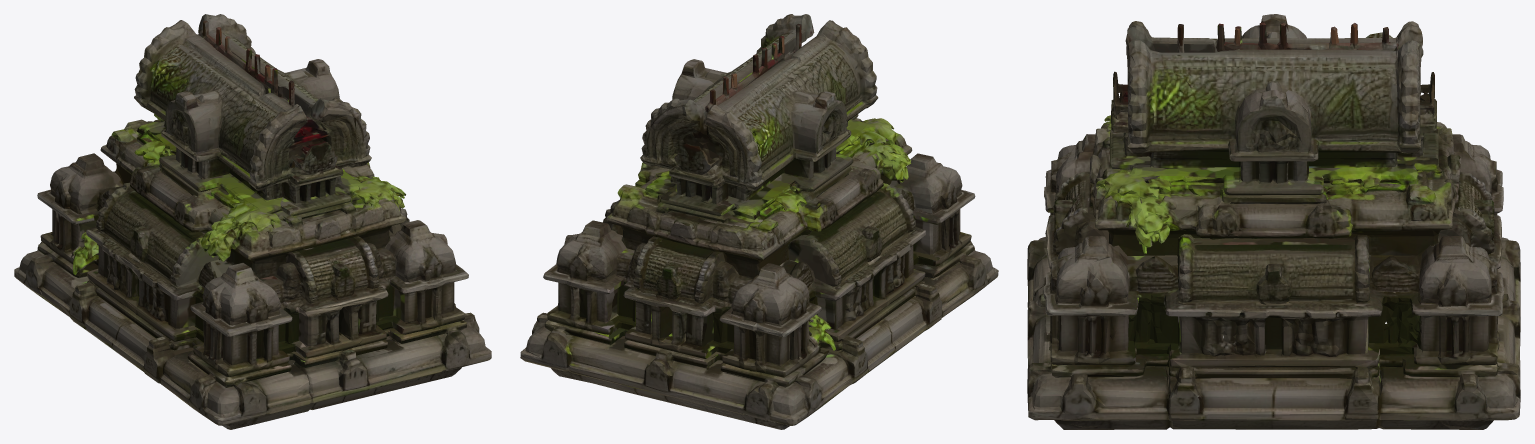
The model's file is roof-structure-a-temple-remains-ruins-optimized.glb.
3 views of the same model, side by side, from view 1: azimuth 30°, elevation 25°; view 2: azimuth 150°, elevation 25°; view 3: azimuth 270°, elevation 25° (orthographic). The views are drawn at different scales.
Parts seen in each view (by area): view 1: 67e875f6-79e9-4355-86e6-9fe2955b4af2_texturing.obj; view 2: 67e875f6-79e9-4355-86e6-9fe2955b4af2_texturing.obj; view 3: 67e875f6-79e9-4355-86e6-9fe2955b4af2_texturing.obj.
Part boxes in pixels (x1,y1,x2,y2): 67e875f6-79e9-4355-86e6-9fe2955b4af2_texturing.obj: [14, 14, 491, 429]; 67e875f6-79e9-4355-86e6-9fe2955b4af2_texturing.obj: [520, 14, 998, 429]; 67e875f6-79e9-4355-86e6-9fe2955b4af2_texturing.obj: [1027, 14, 1520, 429].
Bounding box in the file's own units: 1.56 × 1.52 × 1.99.
1 material, 1 textured.
